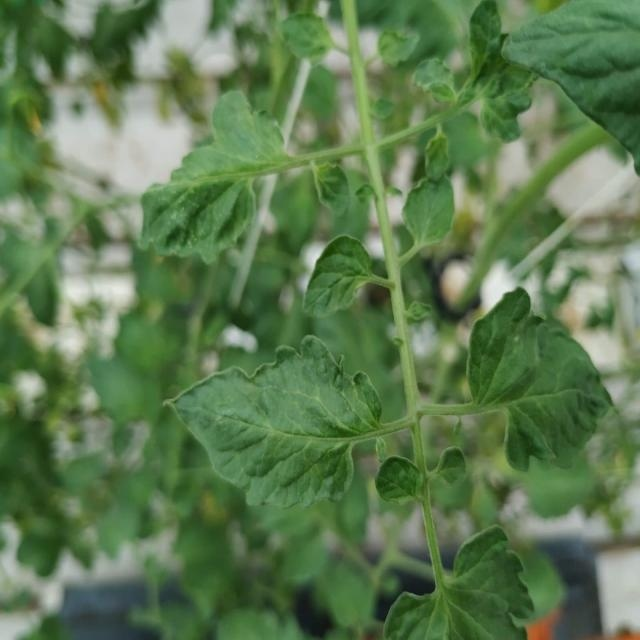T_L_H: (503, 1, 640, 174), (304, 236, 392, 317), (376, 458, 424, 504)
T_L_R: (171, 336, 384, 508), (468, 288, 614, 471), (385, 526, 535, 639), (141, 179, 255, 263)
